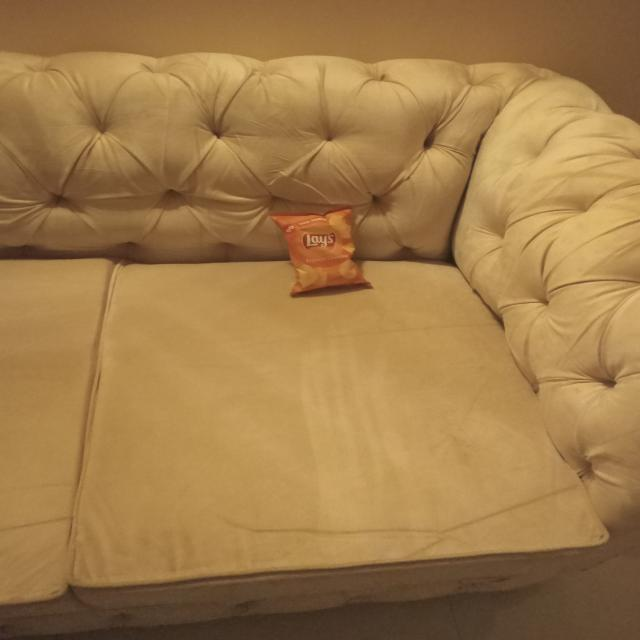Plastic: (262, 202, 390, 310)
